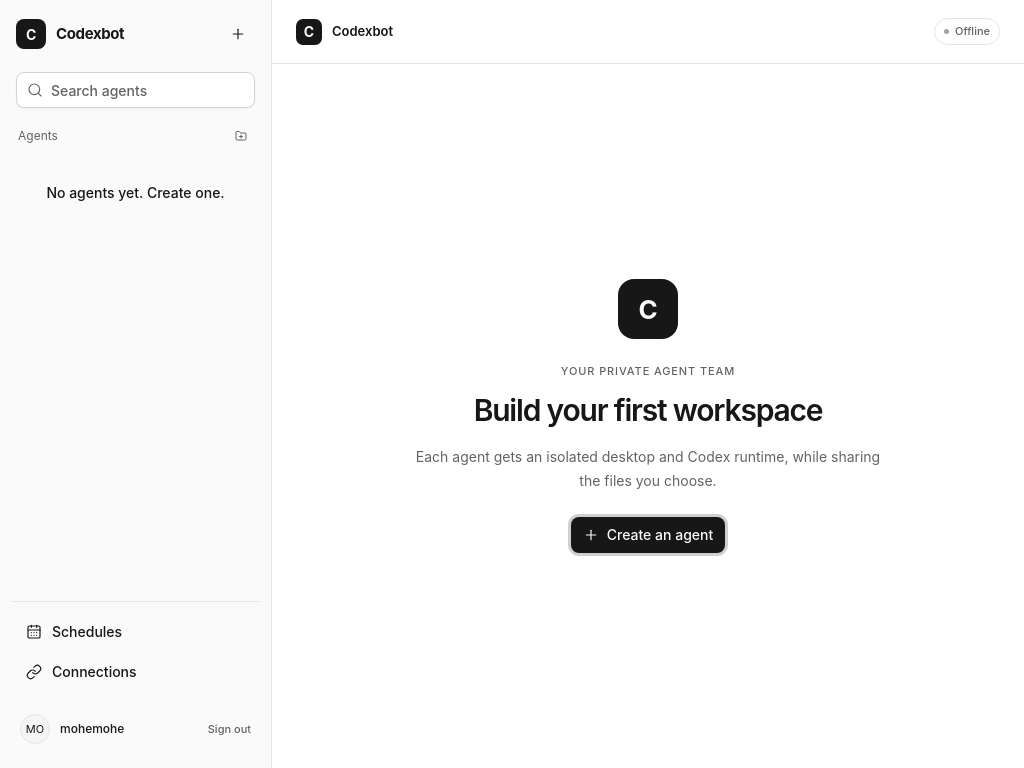
Agent model settings › dismisses the creation dialog with Escape and restores focus to Create an agent
This screenshot has width=1024, height=768.
Step 1. Click the button "Create an agent" → (648, 534), box [571,516,725,552]
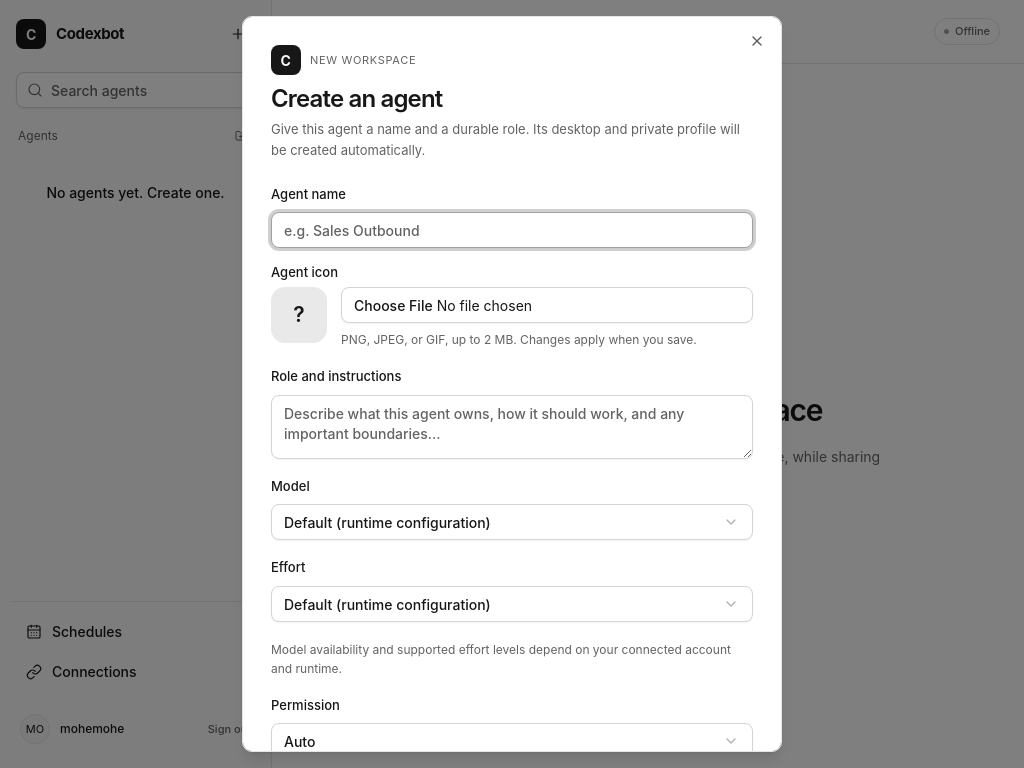
Step 2. Press Escape in the dialog "Create an agent", box [242,16,782,752]
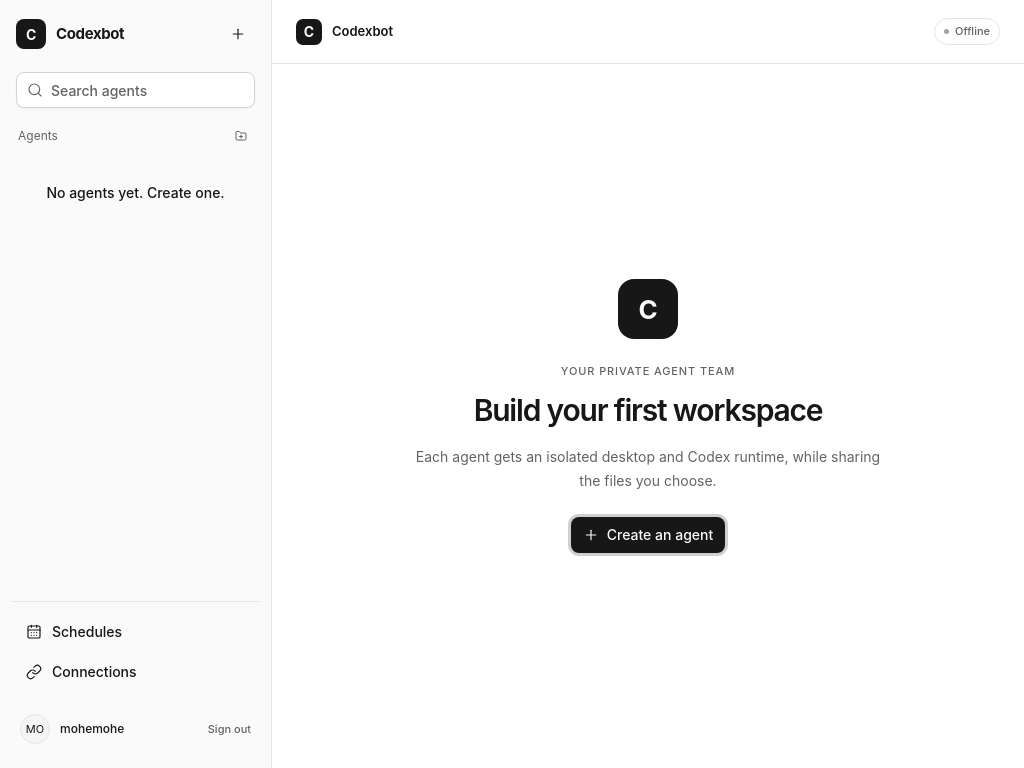
Result: the dialog is gone
